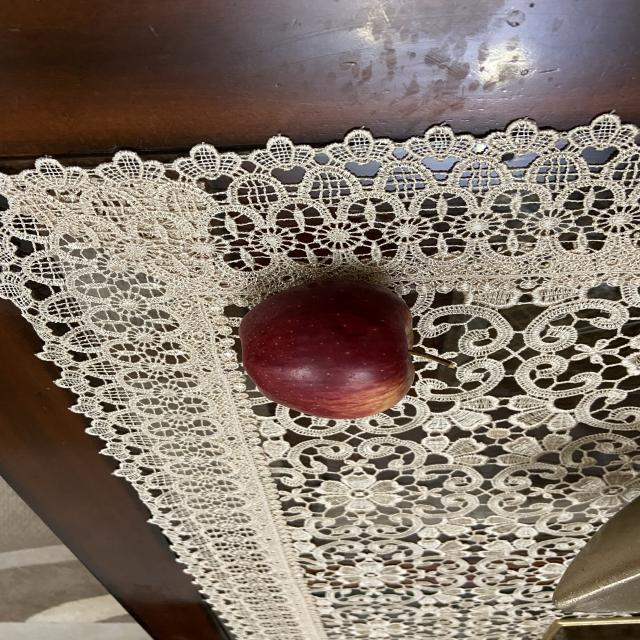apple: (231, 276, 449, 422)
